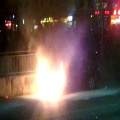fire: (30, 57, 65, 100)
